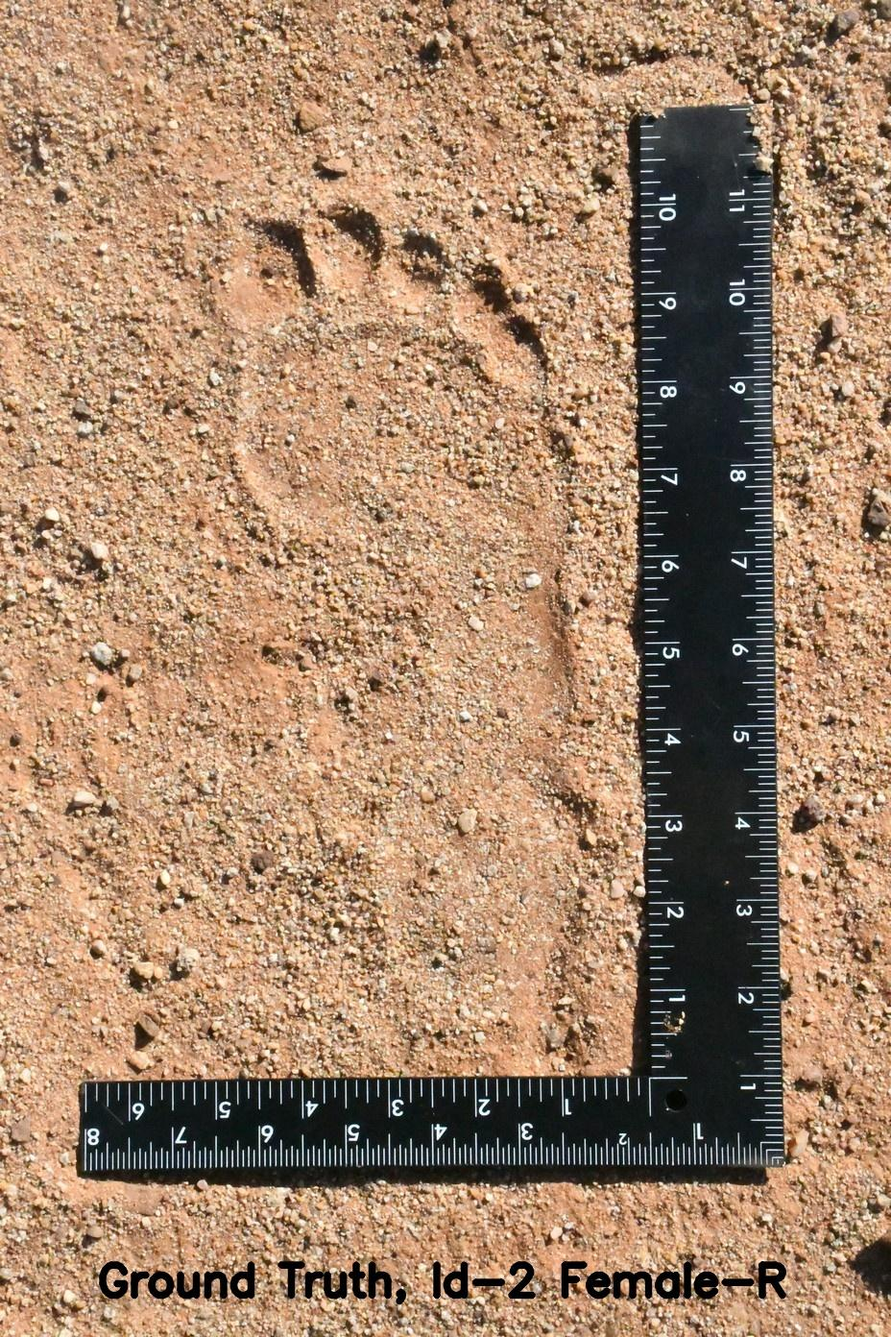human_footprint: (205, 183, 612, 1044)
